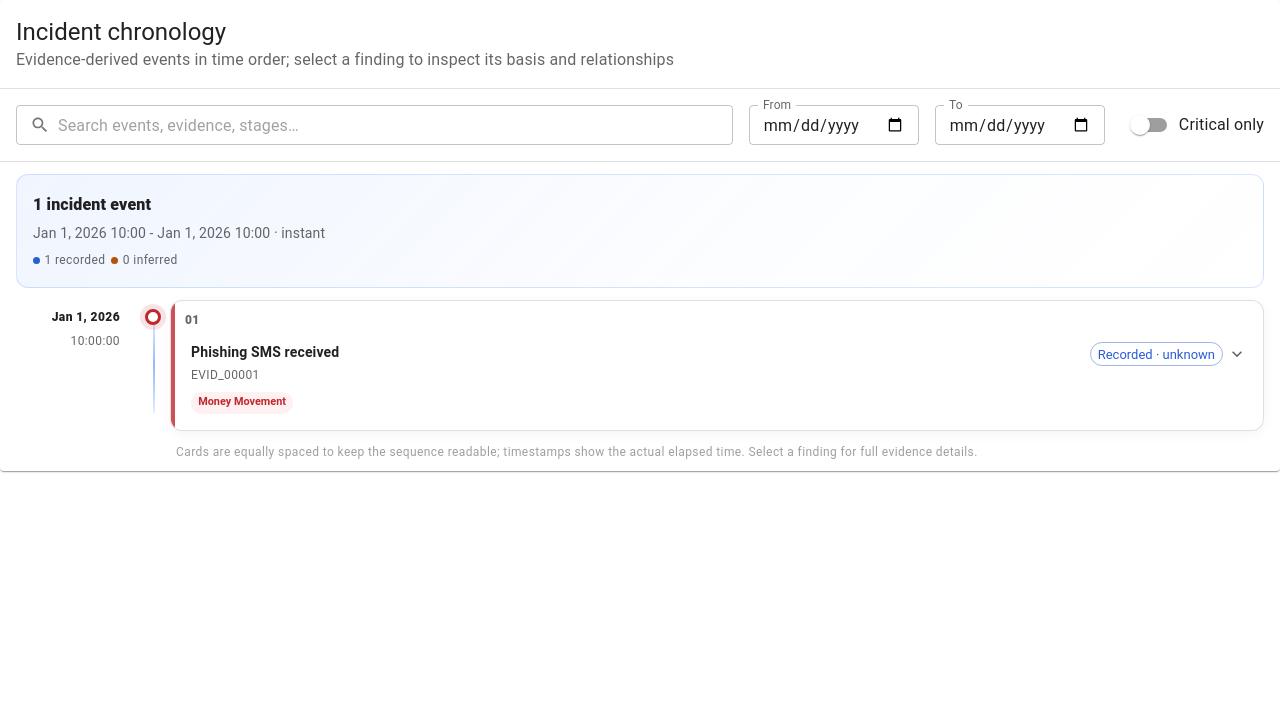
Test: TimelineTab event details › explains in plain words what the attack stage means
The width and height of the screenshot is (1280, 720).
Click the button at (265, 352), box [185,336,1253,420]
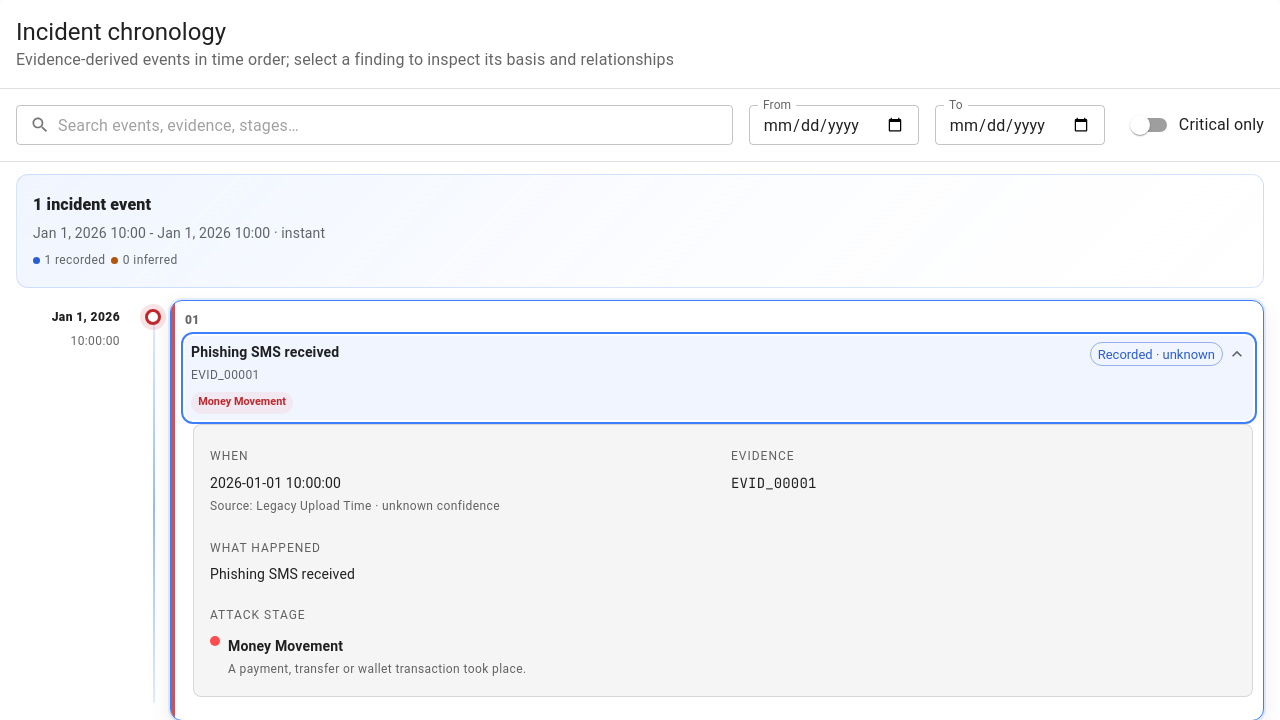
Expected: the text "A payment, transfer or wallet transaction took place." is shown, [228,662,526,676]
